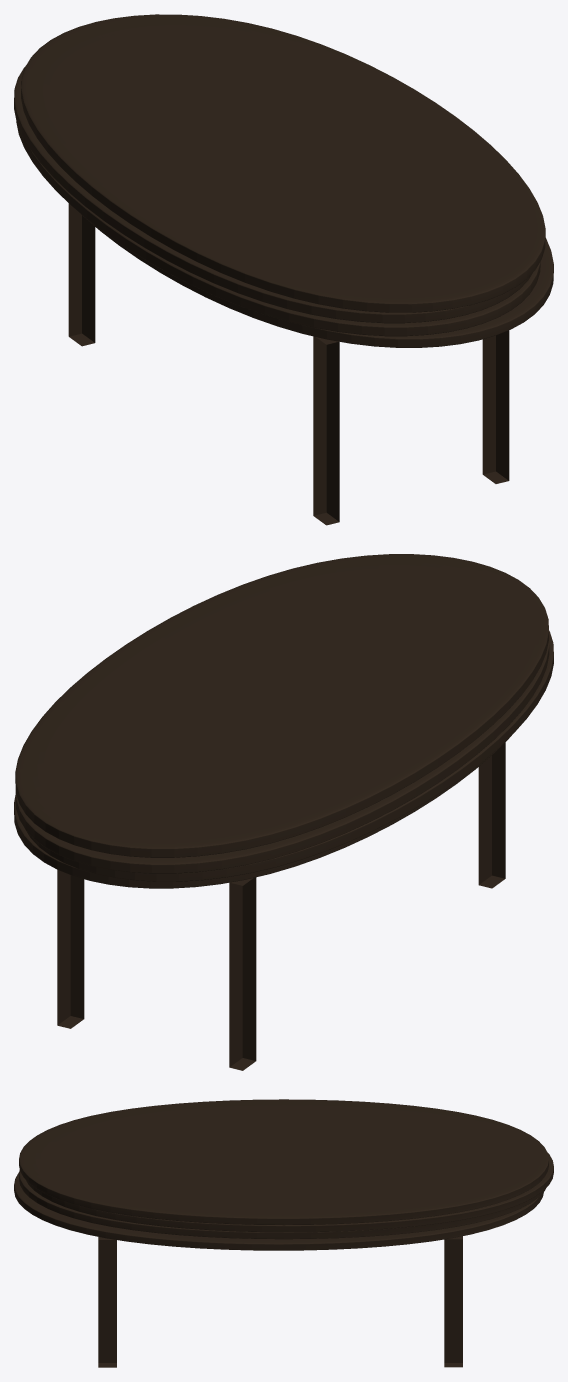
The model's file is dining table.glb.
3 renders of one model, top to bottom at view 1: azimuth 30°, elevation 25°; view 2: azimuth 150°, elevation 25°; view 3: azimuth 270°, elevation 25°, orthographic. The views are drawn at different scales.
Visible parts, largest first — view 1: dining table; view 2: dining table; view 3: dining table.
Part boxes in pixels (x1,y1,x2,y2): dining table: [14, 14, 553, 525]; dining table: [14, 554, 553, 1070]; dining table: [14, 1099, 553, 1367].
Bounding box in the file's own units: 1.14 × 0.7639 × 2.12.
